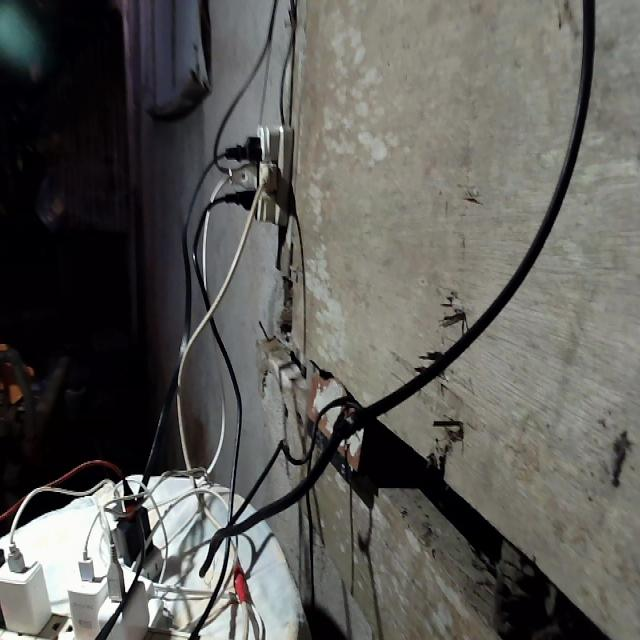-: (223, 124, 295, 235)
